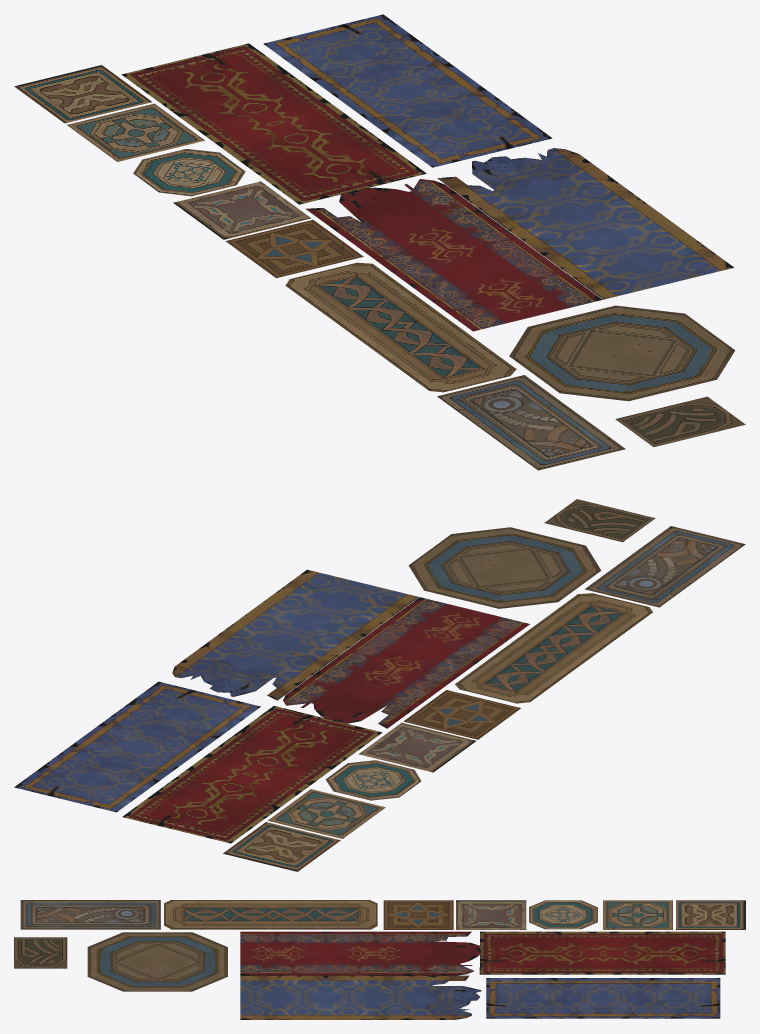
The model's file is 2_DG_TieHua_01.FBX.
3 renders of one model, top to bottom at view 1: azimuth 30°, elevation 25°; view 2: azimuth 150°, elevation 25°; view 3: azimuth 270°, elevation 25°, orthographic. The views are drawn at different scales.
Visible parts, largest first — view 1: 2_DG_DiTan_01_04, 2_DG_DiTan_01_01, 2_DG_DiTan_01_02, 2_DG_DiTan_01_06, 2_DG_TieHua_01_09, 2_DG_TieHua_01_06, 2_DG_TieHua_01_07, 2_DG_DiTan_01_05, 2_DG_DiTan_01_03, 2_DG_TieHua_01_04, 2_DG_TieHua_01_01, 2_DG_TieHua_01_05 (+3 smaller); view 2: 2_DG_DiTan_01_04, 2_DG_DiTan_01_01, 2_DG_DiTan_01_02, 2_DG_DiTan_01_06, 2_DG_TieHua_01_09, 2_DG_TieHua_01_06, 2_DG_TieHua_01_07, 2_DG_DiTan_01_05, 2_DG_DiTan_01_03, 2_DG_TieHua_01_01, 2_DG_TieHua_01_04, 2_DG_TieHua_01_05 (+3 smaller); view 3: 2_DG_DiTan_01_04, 2_DG_DiTan_01_01, 2_DG_DiTan_01_02, 2_DG_DiTan_01_06, 2_DG_TieHua_01_09, 2_DG_TieHua_01_06, 2_DG_TieHua_01_07, 2_DG_DiTan_01_05, 2_DG_DiTan_01_03, 2_DG_TieHua_01_05, 2_DG_TieHua_01_04, 2_DG_TieHua_01_01 (+3 smaller).
Part boxes in pixels (x1,y1,x2,y2): 2_DG_DiTan_01_04: [121, 43, 426, 204]; 2_DG_DiTan_01_01: [263, 14, 552, 167]; 2_DG_DiTan_01_02: [480, 177, 733, 299]; 2_DG_DiTan_01_06: [350, 209, 602, 331]; 2_DG_TieHua_01_09: [509, 305, 734, 401]; 2_DG_TieHua_01_06: [285, 262, 516, 392]; 2_DG_TieHua_01_07: [437, 375, 625, 470]; 2_DG_DiTan_01_05: [305, 179, 478, 240]; 2_DG_DiTan_01_03: [437, 148, 610, 208]; 2_DG_TieHua_01_04: [173, 181, 311, 239]; 2_DG_TieHua_01_01: [14, 65, 151, 123]; 2_DG_TieHua_01_05: [225, 220, 363, 277]; 2_DG_DiTan_01_04: [122, 706, 382, 843]; 2_DG_DiTan_01_01: [14, 681, 260, 812]; 2_DG_DiTan_01_02: [202, 569, 418, 673]; 2_DG_DiTan_01_06: [314, 597, 529, 701]; 2_DG_TieHua_01_09: [408, 527, 600, 608]; 2_DG_TieHua_01_06: [455, 593, 652, 703]; 2_DG_TieHua_01_07: [585, 526, 745, 607]; 2_DG_DiTan_01_05: [283, 674, 424, 728]; 2_DG_DiTan_01_03: [172, 647, 313, 700]; 2_DG_TieHua_01_01: [223, 822, 340, 871]; 2_DG_TieHua_01_04: [359, 722, 475, 772]; 2_DG_TieHua_01_05: [403, 690, 520, 739]; 2_DG_DiTan_01_04: [479, 931, 725, 974]; 2_DG_DiTan_01_01: [486, 978, 720, 1018]; 2_DG_DiTan_01_02: [240, 975, 411, 1019]; 2_DG_DiTan_01_06: [240, 931, 411, 975]; 2_DG_TieHua_01_09: [87, 932, 227, 991]; 2_DG_TieHua_01_06: [164, 900, 377, 929]; 2_DG_TieHua_01_07: [20, 900, 160, 929]; 2_DG_DiTan_01_05: [411, 931, 481, 975]; 2_DG_DiTan_01_03: [411, 975, 481, 1019]; 2_DG_TieHua_01_05: [383, 900, 453, 929]; 2_DG_TieHua_01_04: [456, 900, 526, 929]; 2_DG_TieHua_01_01: [676, 900, 745, 929].
Size of the model in its own units: 1416 by 0.3775 by 3655.
